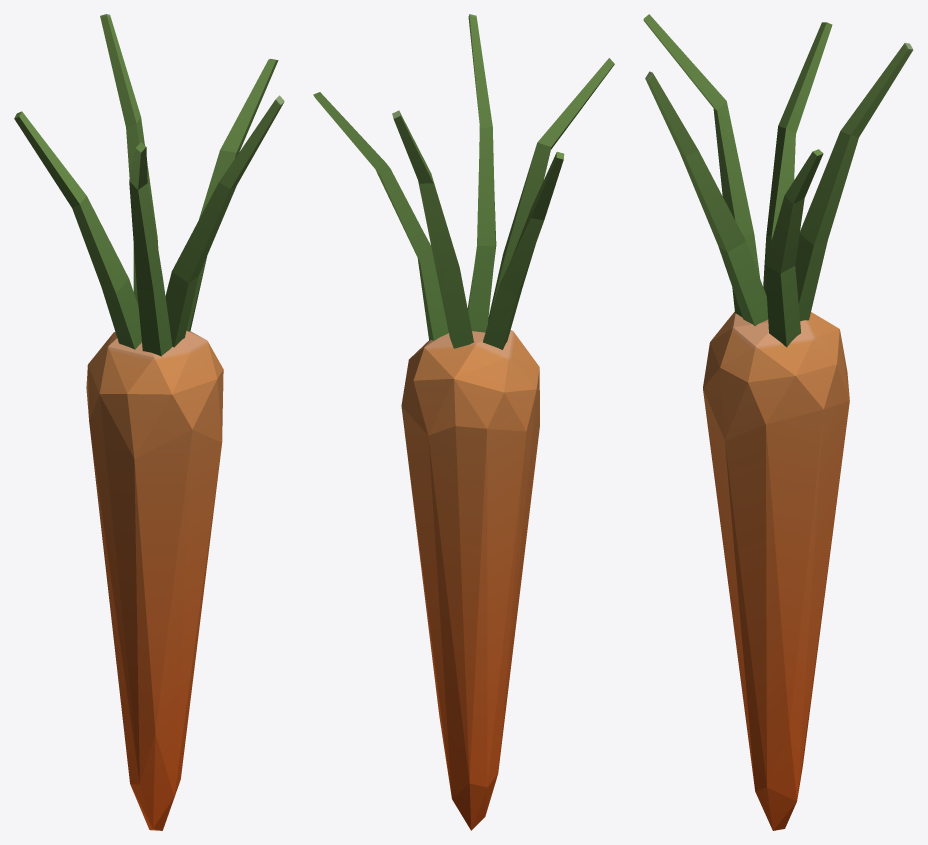
File: SM_Food_Carrot.fbx
3 renders of one model, left to right at view 1: azimuth 30°, elevation 25°; view 2: azimuth 150°, elevation 25°; view 3: azimuth 270°, elevation 25°, orthographic. The views are drawn at different scales.
Visible parts, largest first — view 1: SM_Food_Carrot; view 2: SM_Food_Carrot; view 3: SM_Food_Carrot.
Boxes of the visible parts, box(x1,y1,x2,y2) form: SM_Food_Carrot: box(14, 14, 284, 830); SM_Food_Carrot: box(313, 14, 614, 830); SM_Food_Carrot: box(643, 14, 913, 830).
Size of the model in its own units: 9.79 by 27.76 by 8.56.
